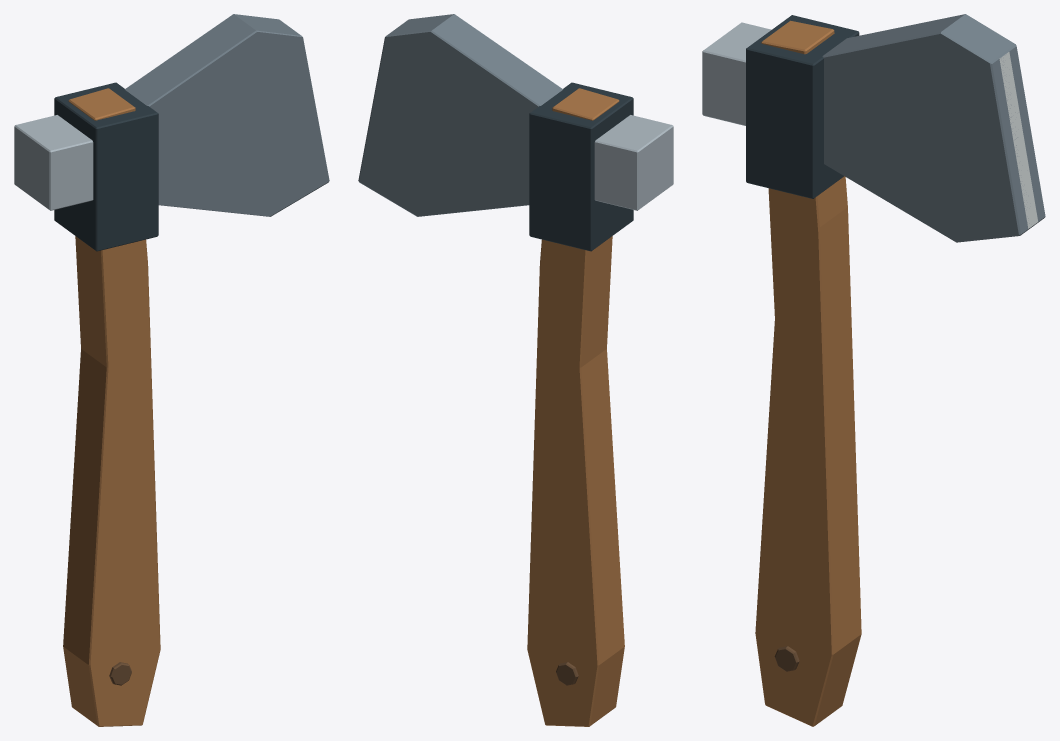
File: b06_hatchet.glb
3 renders of one model, left to right at view 1: azimuth 30°, elevation 25°; view 2: azimuth 150°, elevation 25°; view 3: azimuth 330°, elevation 25°, orthographic. The views are drawn at different scales.
Visible parts, largest first — view 1: b06_hatchet; view 2: b06_hatchet; view 3: b06_hatchet.
Boxes of the visible parts, x1,y1,x2,y2 form: b06_hatchet: [14, 14, 329, 726]; b06_hatchet: [358, 14, 673, 726]; b06_hatchet: [702, 14, 1045, 726].
Bounding box in the file's own units: 0.1594 × 0.3539 × 0.041.
